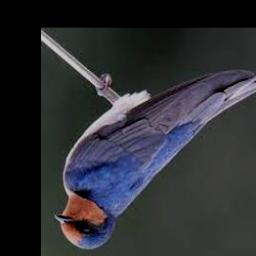Swallow: (56, 68, 256, 249)
